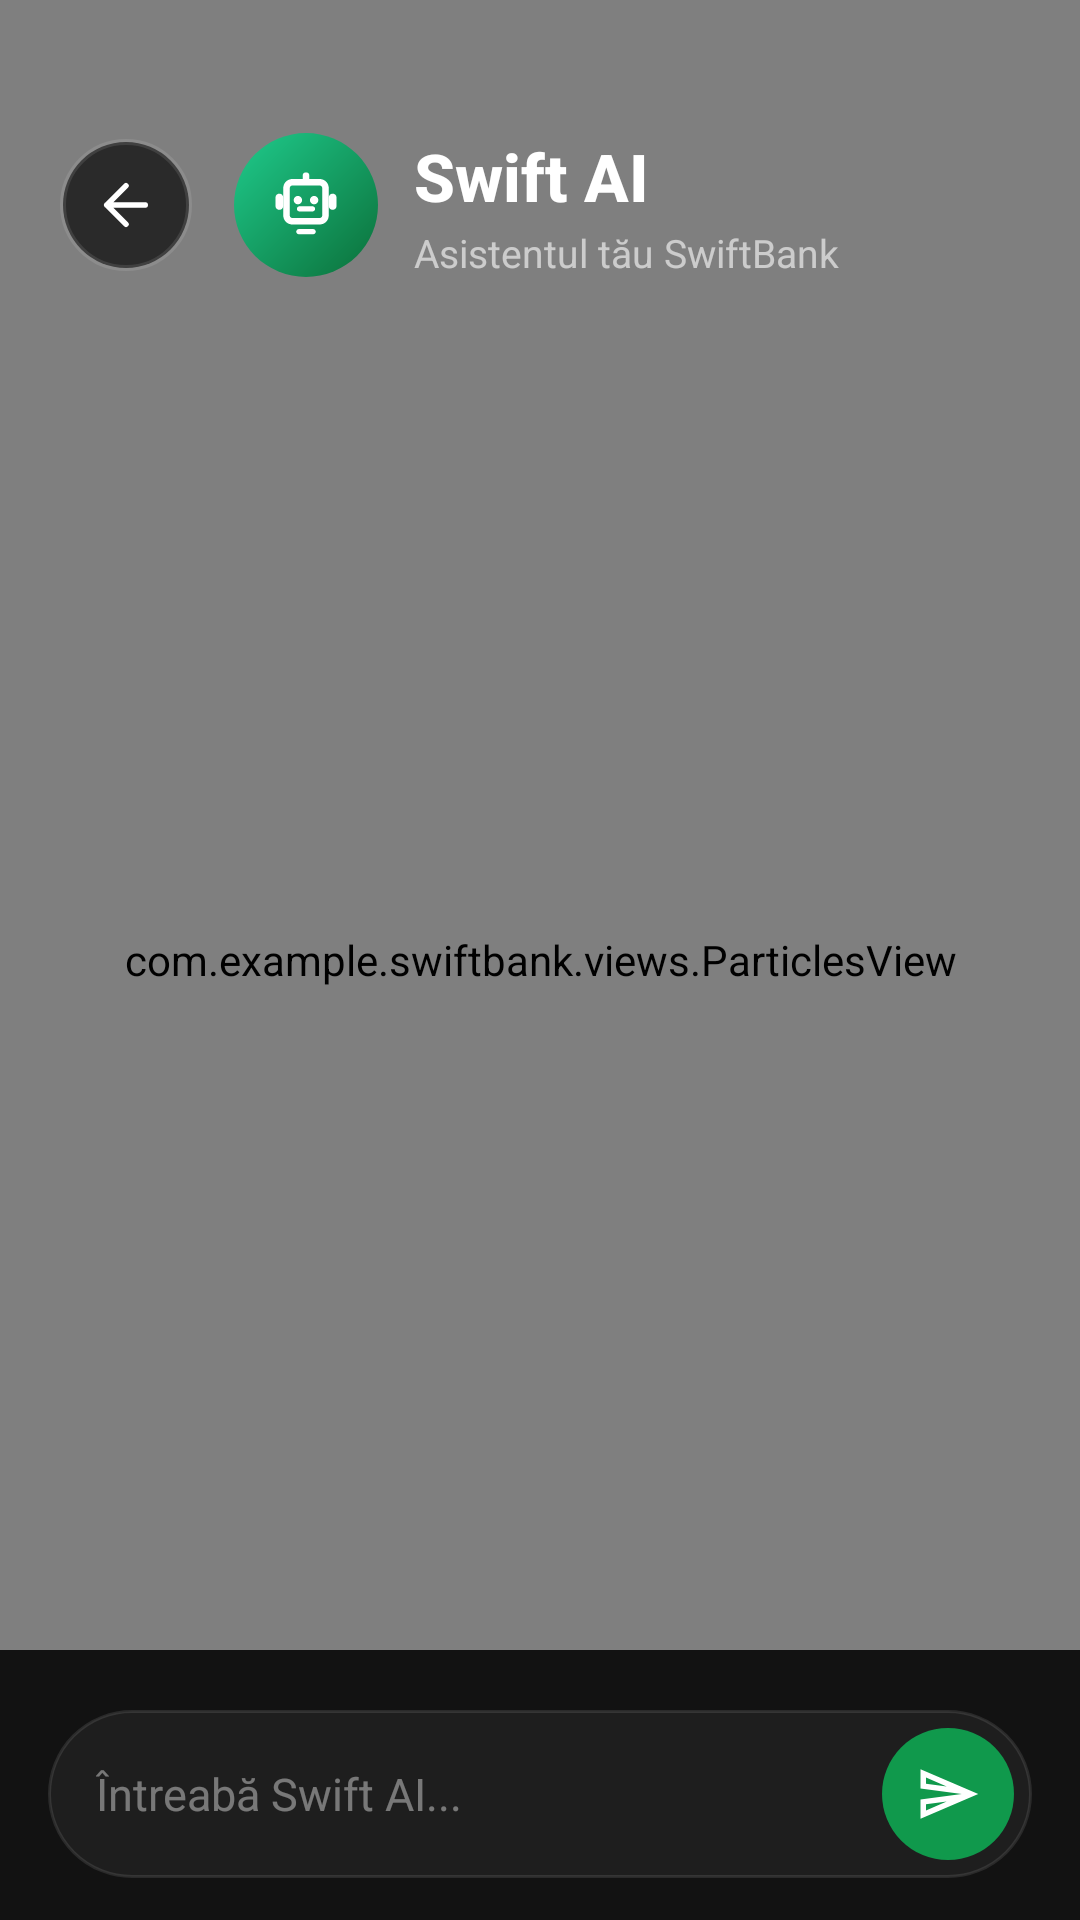

Locate icon controls on the screen. Image size 1080px x 1920px, boxes as {"x1": x1, "y1": y1, "x2": x2, "y2": y2}.
Trimite: {"x1": 882, "y1": 1728, "x2": 1014, "y2": 1860}
Înapoi: {"x1": 63, "y1": 142, "x2": 189, "y2": 268}
